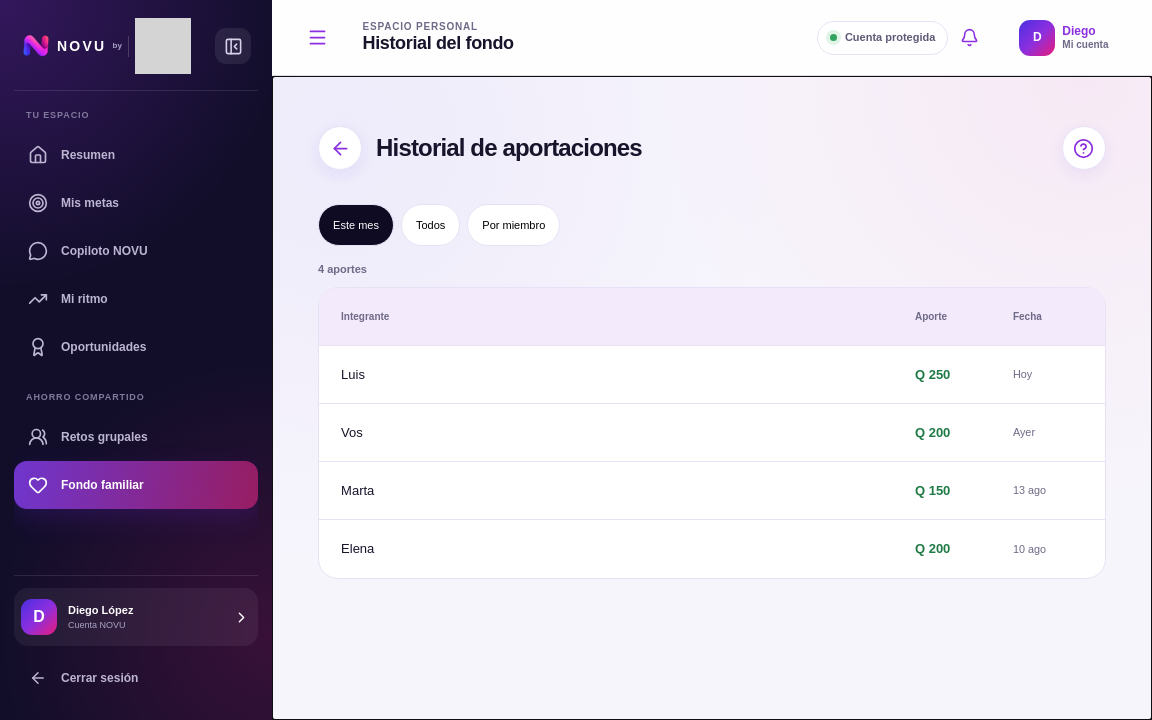
filtros de historiales › filtra el historial del fondo por integrante
expect the text "10 ago" is shown: met, box [1013,543,1046,555]
Step 1. Click the button "Por miembro" → click(514, 225), box [467,204,560,246]
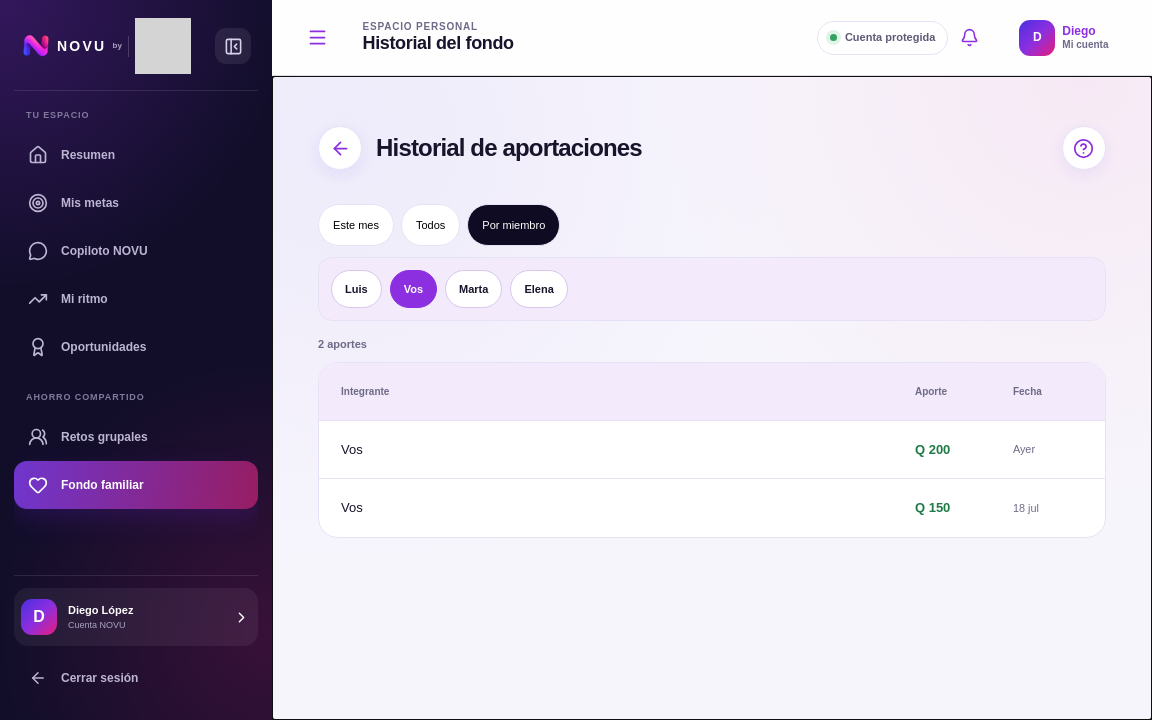
Step 2. Click the button "Elena" → click(539, 289), box [510,270,568,308]
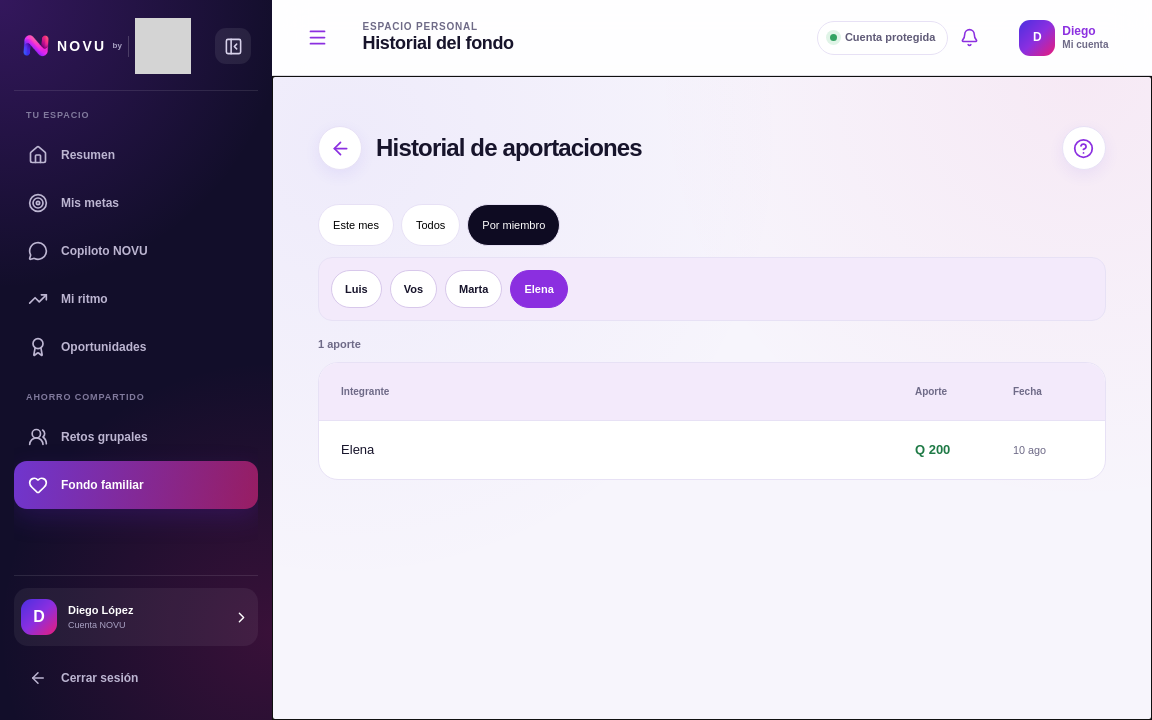
expect the text "13 ago" is not shown: met
expect the text "10 ago" is shown: met, box [1013,444,1046,456]
